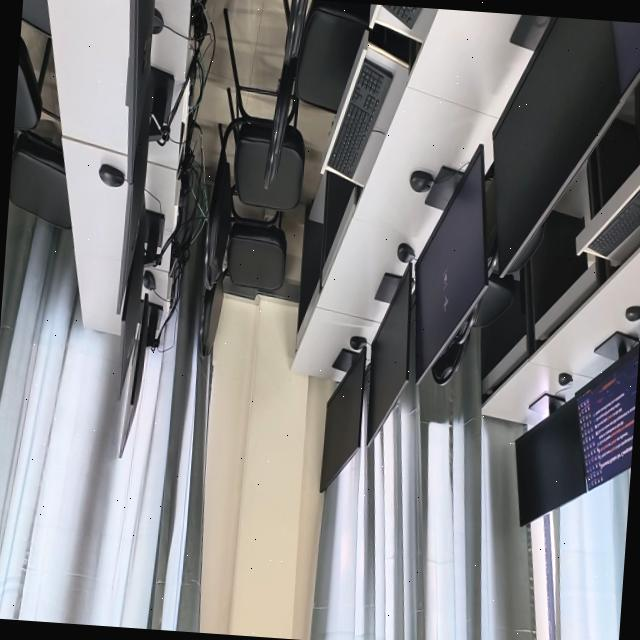Chair: (203, 8, 303, 288), (264, 0, 368, 187), (199, 184, 286, 356), (430, 271, 513, 384), (8, 132, 69, 228), (13, 35, 49, 129), (497, 219, 543, 275), (20, 0, 49, 35), (633, 78, 640, 146)
Keyboard: (327, 59, 391, 177), (587, 186, 640, 256), (381, 3, 420, 27)
Monitor: (491, 13, 618, 270), (414, 144, 486, 382), (114, 66, 172, 316), (576, 331, 640, 489), (514, 392, 585, 525), (365, 262, 413, 444), (120, 209, 162, 398), (117, 292, 161, 457), (319, 348, 366, 490), (124, 0, 153, 176), (610, 19, 640, 94)
Mouse: (98, 163, 123, 186), (408, 169, 432, 191), (396, 242, 414, 262), (151, 8, 162, 33), (348, 335, 366, 350), (141, 269, 154, 289), (624, 306, 640, 320), (557, 371, 571, 385)
